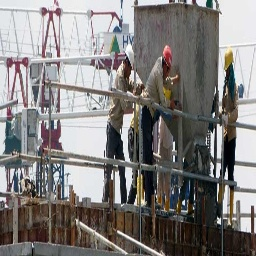helmet: (222, 44, 235, 80), (162, 44, 172, 77), (125, 41, 134, 73)
no-vest: (144, 57, 163, 129), (108, 70, 126, 133), (223, 83, 234, 159)
person: (102, 37, 136, 207), (140, 45, 172, 208), (222, 51, 236, 229)
